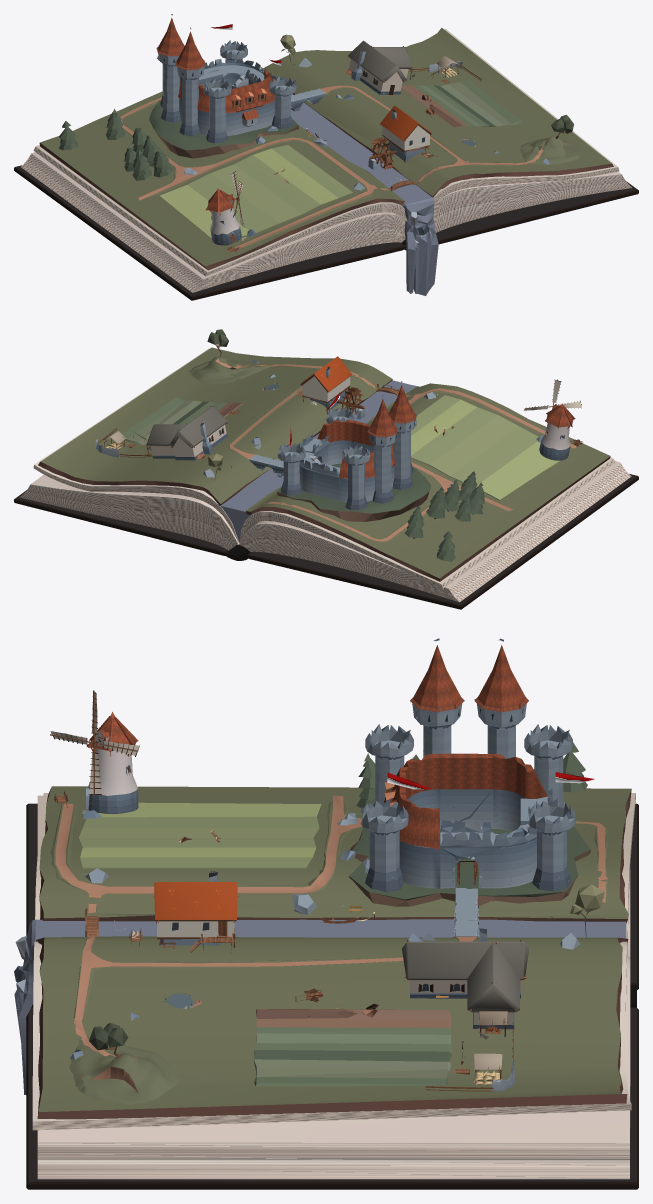
Rendered from low_book.fbx.
3 views of the same model, one above another, from view 1: azimuth 30°, elevation 25°; view 2: azimuth 150°, elevation 25°; view 3: azimuth 270°, elevation 25° (orthographic). The views are drawn at different scales.
Parts seen in each view (by area): view 1: Scene2; view 2: Scene2; view 3: Scene2.
Boxes of the visible parts, x1,y1,x2,y2 form: Scene2: (14,14,638,300); Scene2: (14,329,638,609); Scene2: (14,638,638,1189).
Size of the model in its own units: 19.25 by 8.58 by 13.51.
